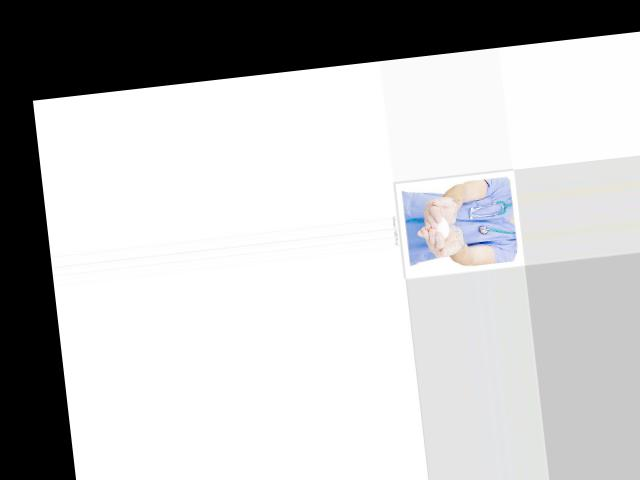egg: (433, 216, 450, 239)
